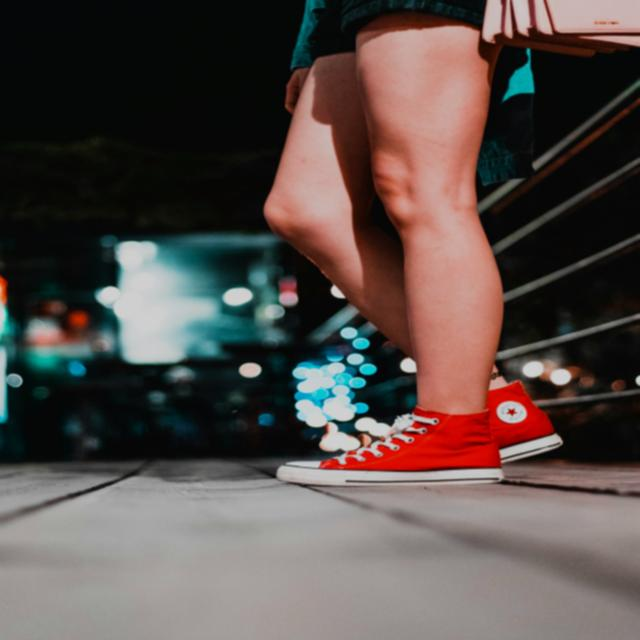piel: (256, 14, 513, 415)
